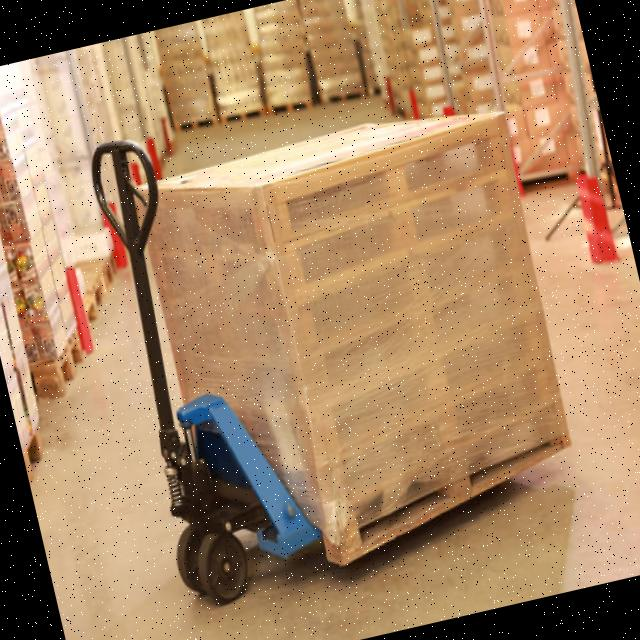Wooden-Pallets: (149, 109, 522, 251), (329, 392, 593, 587), (289, 203, 551, 364), (309, 307, 558, 470), (307, 251, 551, 415), (277, 176, 526, 304)
